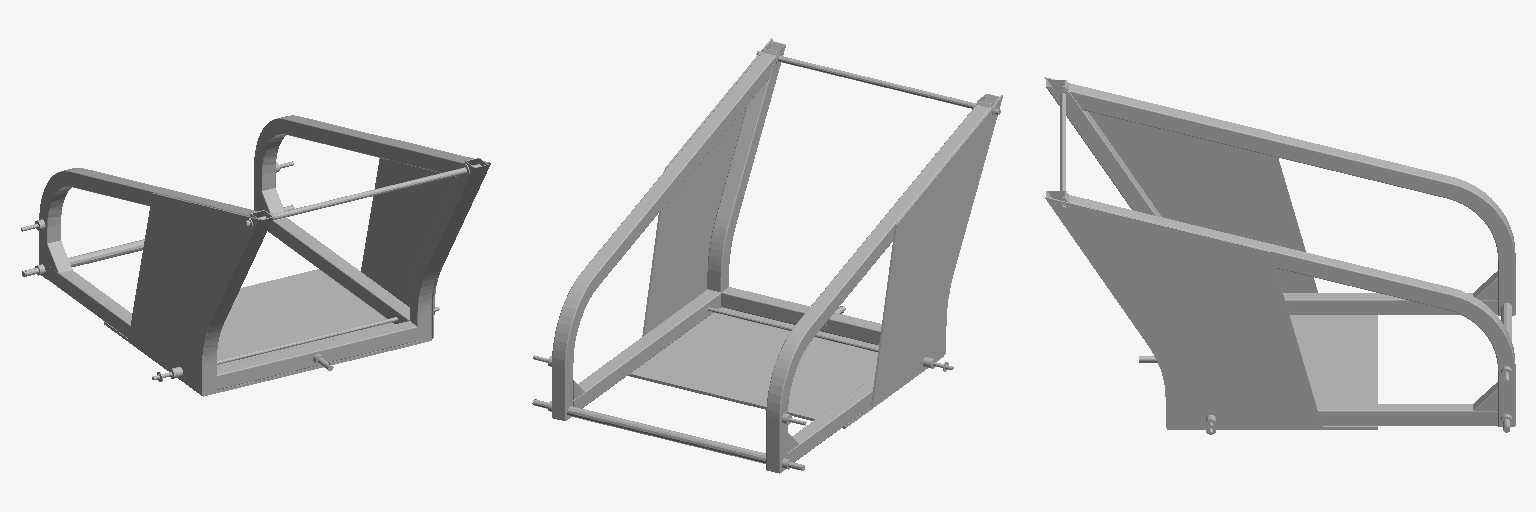
URDF robot description (rmc_simulation):
<robot
  name="rmc_simulation">
  <link
    name="base_link">
    <inertial>
      <origin
        xyz="0.0719191525595428 -0.529514025798947 0.258354886671981"
        rpy="0 0 0" />
      <mass
        value="5.21776221348033" />
      <inertia
        ixx="0.389997796058234"
        ixy="9.71316981309733E-06"
        ixz="-0.000223596199441625"
        iyy="0.310798205396144"
        iyz="-0.0567353943990997"
        izz="0.538173547982933" />
    </inertial>
    <visual>
      <origin
        xyz="0 0 0"
        rpy="0 0 0" />
      <geometry>
        <mesh
          filename="package://rmc_simulation/meshes/base_link.STL" />
      </geometry>
      <material
        name="">
        <color
          rgba="0.752941176470588 0.752941176470588 0.752941176470588 1" />
      </material>
    </visual>
    <collision>
      <origin
        xyz="0 0 0"
        rpy="0 0 0" />
      <geometry>
        <mesh
          filename="package://rmc_simulation/meshes/base_link.STL" />
      </geometry>
    </collision>
  </link>
  <link
    name="fr_wheel_link">
    <inertial>
      <origin
        xyz="-7.19149739758507E-12 -0.0707951640907282 -1.95886141474144E-07"
        rpy="0 0 0" />
      <mass
        value="0.687645998614542" />
      <inertia
        ixx="0.00410397321446005"
        ixy="1.94069035037664E-13"
        ixz="1.05933082875857E-14"
        iyy="0.00552463397717715"
        iyz="5.39169464241662E-09"
        izz="0.00410397301758295" />
    </inertial>
    <visual>
      <origin
        xyz="0 0 0"
        rpy="0 0 0" />
      <geometry>
        <mesh
          filename="package://rmc_simulation/meshes/fr_wheel_link.STL" />
      </geometry>
      <material
        name="">
        <color
          rgba="0.752941176470588 0.752941176470588 0.752941176470588 1" />
      </material>
    </visual>
    <collision>
      <origin
        xyz="0 0 0"
        rpy="0 0 0" />
      <geometry>
        <mesh
          filename="package://rmc_simulation/meshes/fr_wheel_link.STL" />
      </geometry>
    </collision>
  </link>
  <joint
    name="fr_wheel_joint"
    type="continuous">
    <origin
      xyz="0.322993191374717 -0.0779327659083641 0.0778552780598406"
      rpy="3.14159265358979 -1.56862653893506 -1.5707963267949" />
    <parent
      link="base_link" />
    <child
      link="fr_wheel_link" />
    <axis
      xyz="0 1 0" />
  </joint>
  <link
    name="mr_wheel_link">
    <inertial>
      <origin
        xyz="-7.30707161444855E-12 -0.0707951640913478 -1.95886142140278E-07"
        rpy="0 0 0" />
      <mass
        value="0.687645998625396" />
      <inertia
        ixx="0.00410397321447679"
        ixy="1.97149627284804E-13"
        ixz="1.06925102452693E-14"
        iyy="0.00552463397717739"
        iyz="5.39169467425826E-09"
        izz="0.00410397301759992" />
    </inertial>
    <visual>
      <origin
        xyz="0 0 0"
        rpy="0 0 0" />
      <geometry>
        <mesh
          filename="package://rmc_simulation/meshes/mr_wheel_link.STL" />
      </geometry>
      <material
        name="">
        <color
          rgba="0.752941176470588 0.752941176470588 0.752941176470588 1" />
      </material>
    </visual>
    <collision>
      <origin
        xyz="0 0 0"
        rpy="0 0 0" />
      <geometry>
        <mesh
          filename="package://rmc_simulation/meshes/mr_wheel_link.STL" />
      </geometry>
    </collision>
  </link>
  <joint
    name="mr_wheel_joint"
    type="continuous">
    <origin
      xyz="0.322993191374717 -0.433641505259442 0.0778067127306861"
      rpy="1.5707963267949 -1.5707963267949 0" />
    <parent
      link="base_link" />
    <child
      link="mr_wheel_link" />
    <axis
      xyz="0 1 0" />
  </joint>
  <link
    name="br_wheel_link">
    <inertial>
      <origin
        xyz="-2.56872301207522E-12 -0.0707920435844434 -1.95886293075098E-07"
        rpy="0 0 0" />
      <mass
        value="0.687645998094418" />
      <inertia
        ixx="0.00410397321363925"
        ixy="7.41448411831201E-14"
        ixz="7.32617091991905E-15"
        iyy="0.00552463397716753"
        iyz="5.39170125726693E-09"
        izz="0.00410397301675641" />
    </inertial>
    <visual>
      <origin
        xyz="0 0 0"
        rpy="0 0 0" />
      <geometry>
        <mesh
          filename="package://rmc_simulation/meshes/br_wheel_link.STL" />
      </geometry>
      <material
        name="">
        <color
          rgba="0.752941176470588 0.752941176470588 0.752941176470588 1" />
      </material>
    </visual>
    <collision>
      <origin
        xyz="0 0 0"
        rpy="0 0 0" />
      <geometry>
        <mesh
          filename="package://rmc_simulation/meshes/br_wheel_link.STL" />
      </geometry>
    </collision>
  </link>
  <joint
    name="br_wheel_joint"
    type="continuous">
    <origin
      xyz="0.323202134134549 -0.770124006916524 0.07664686034817"
      rpy="3.13028479554889 -1.11701573915485 -1.56063278319395" />
    <parent
      link="base_link" />
    <child
      link="br_wheel_link" />
    <axis
      xyz="0 1 0" />
  </joint>
  <link
    name="fl_wheel_link">
    <inertial>
      <origin
        xyz="-7.3069883477217E-12 -0.0707951640913485 -1.958861421264E-07"
        rpy="0 0 0" />
      <mass
        value="0.687645998625407" />
      <inertia
        ixx="0.00410397321447676"
        ixy="1.97154306294804E-13"
        ixz="1.06921443270361E-14"
        iyy="0.00552463397717734"
        iyz="5.39169467501382E-09"
        izz="0.0041039730175999" />
    </inertial>
    <visual>
      <origin
        xyz="0 0 0"
        rpy="0 0 0" />
      <geometry>
        <mesh
          filename="package://rmc_simulation/meshes/fl_wheel_link.STL" />
      </geometry>
      <material
        name="">
        <color
          rgba="0.752941176470588 0.752941176470588 0.752941176470588 1" />
      </material>
    </visual>
    <collision>
      <origin
        xyz="0 0 0"
        rpy="0 0 0" />
      <geometry>
        <mesh
          filename="package://rmc_simulation/meshes/fl_wheel_link.STL" />
      </geometry>
    </collision>
  </link>
  <joint
    name="fl_wheel_joint"
    type="continuous">
    <origin
      xyz="-0.179281808625283 -0.0779740069165238 0.0778309873766015"
      rpy="1.5707963267949 1.5707963267949 0" />
    <parent
      link="base_link" />
    <child
      link="fl_wheel_link" />
    <axis
      xyz="0 -1 0" />
  </joint>
  <link
    name="ml_wheel_link">
    <inertial>
      <origin
        xyz="-7.30701610329731E-12 -0.0707951640913486 -1.95886142084767E-07"
        rpy="0 0 0" />
      <mass
        value="0.687645998625407" />
      <inertia
        ixx="0.00410397321447676"
        ixy="1.9715426479019E-13"
        ixz="1.06918326189115E-14"
        iyy="0.00552463397717734"
        iyz="5.3916946743328E-09"
        izz="0.0041039730175999" />
    </inertial>
    <visual>
      <origin
        xyz="0 0 0"
        rpy="0 0 0" />
      <geometry>
        <mesh
          filename="package://rmc_simulation/meshes/ml_wheel_link.STL" />
      </geometry>
      <material
        name="">
        <color
          rgba="0.752941176470588 0.752941176470588 0.752941176470588 1" />
      </material>
    </visual>
    <collision>
      <origin
        xyz="0 0 0"
        rpy="0 0 0" />
      <geometry>
        <mesh
          filename="package://rmc_simulation/meshes/ml_wheel_link.STL" />
      </geometry>
    </collision>
  </link>
  <joint
    name="ml_wheel_joint"
    type="continuous">
    <origin
      xyz="-0.179281808625283 -0.433574006916524 0.0778309873766015"
      rpy="1.5707963267949 1.5707963267949 0" />
    <parent
      link="base_link" />
    <child
      link="ml_wheel_link" />
    <axis
      xyz="0 -1 0" />
  </joint>
  <link
    name="bl_wheel_link">
    <inertial>
      <origin
        xyz="-7.71939456800652E-12 -0.0707920436121963 -1.95886686760183E-07"
        rpy="0 0 0" />
      <mass
        value="0.687645998581504" />
      <inertia
        ixx="0.00410397321438875"
        ixy="2.09611323388542E-13"
        ixz="1.05896089746637E-14"
        iyy="0.00552463397717644"
        iyz="5.39171353515359E-09"
        izz="0.00410397301751382" />
    </inertial>
    <visual>
      <origin
        xyz="0 0 0"
        rpy="0 0 0" />
      <geometry>
        <mesh
          filename="package://rmc_simulation/meshes/bl_wheel_link.STL" />
      </geometry>
      <material
        name="">
        <color
          rgba="0.752941176470588 0.752941176470588 0.752941176470588 1" />
      </material>
    </visual>
    <collision>
      <origin
        xyz="0 0 0"
        rpy="0 0 0" />
      <geometry>
        <mesh
          filename="package://rmc_simulation/meshes/bl_wheel_link.STL" />
      </geometry>
    </collision>
  </link>
  <joint
    name="bl_wheel_joint"
    type="continuous">
    <origin
      xyz="-0.180876313928926 -0.770124006916524 0.0791455484611853"
      rpy="-1.57079632679488 1.56583942443656 -3.14159265358978" />
    <parent
      link="base_link" />
    <child
      link="bl_wheel_link" />
    <axis
      xyz="0 -1 0" />
  </joint>
</robot>

--- Render facts (derived) ---
Views: 3 orthographic renders of the robot side by side, from view 1: azimuth 30°, elevation 25°; view 2: azimuth 150°, elevation 25°; view 3: azimuth 270°, elevation 25°.
Model rmc_simulation with 7 links and 6 joints (6 continuous), rooted at base_link, posed every joint at zero.
Links seen in each view (by area): view 1: base_link; view 2: base_link; view 3: base_link.
Link boxes in pixels (left/top/right/bottom): base_link: left=21, top=115, right=490, bottom=396; base_link: left=532, top=38, right=1002, bottom=473; base_link: left=1044, top=77, right=1515, bottom=434.
Bounding box of the posed robot: 0.508 × 0.6827 × 0.3731 m (x, y, z).
1 mesh visuals loaded from 7 distinct referenced files (1 binary STL); not drawn: 6 (reference not matched to a file when rendering).